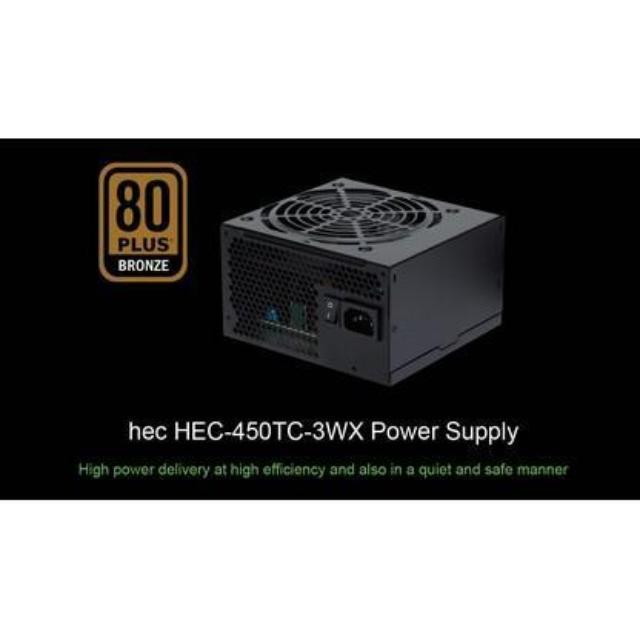PSU: (215, 168, 513, 397)
